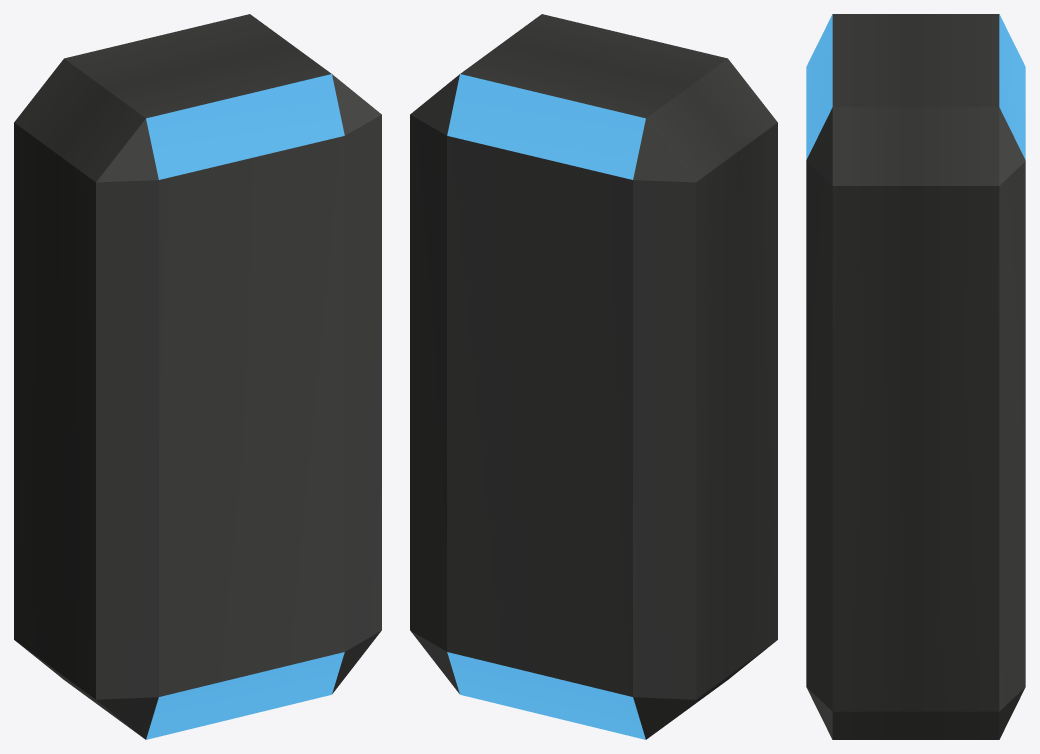
File: Mag_Pistol_mesh.fbx
3 views of the same model, side by side, from view 1: azimuth 30°, elevation 25°; view 2: azimuth 150°, elevation 25°; view 3: azimuth 270°, elevation 25° (orthographic).
Visible parts, largest first — view 1: Mag_Pistol_mesh; view 2: Mag_Pistol_mesh; view 3: Mag_Pistol_mesh.
Boxes of the visible parts, x1,y1,x2,y2 form: Mag_Pistol_mesh: (14,14,381,739); Mag_Pistol_mesh: (410,14,777,739); Mag_Pistol_mesh: (806,14,1025,739).
Size of the model in its own units: 3.54 by 7.35 by 2.31.
2 materials, 1 textured.
